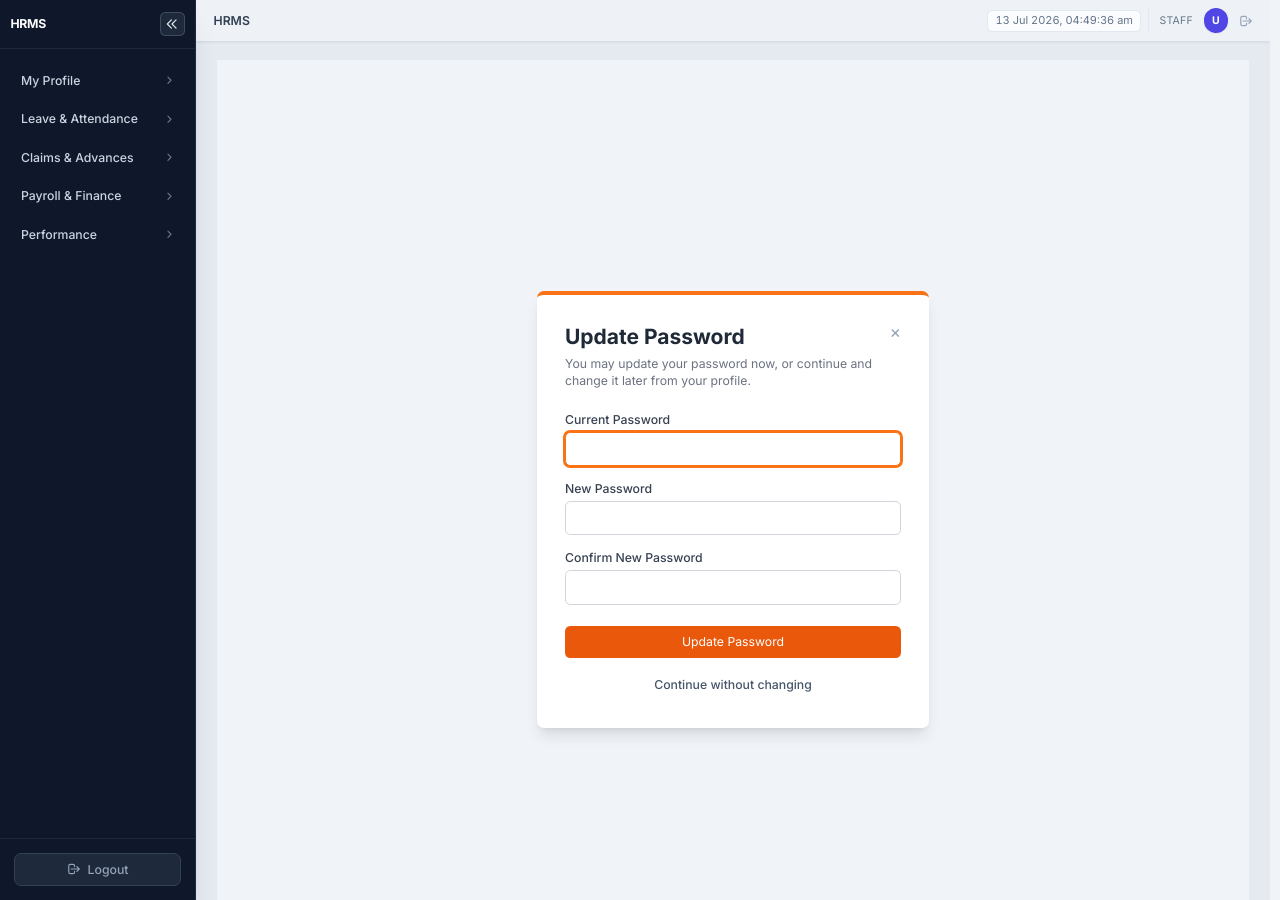
Test case: Auth Flow & forced password change › (c) successful changeMyPassword clears the flag in the store and routes to /
Expected: the heading "Update Password" is shown, [565, 323, 745, 351]
Note: Fill form
In the password field labelled "Current Password": (733, 449) [565, 432, 901, 466], type "oldpass123"
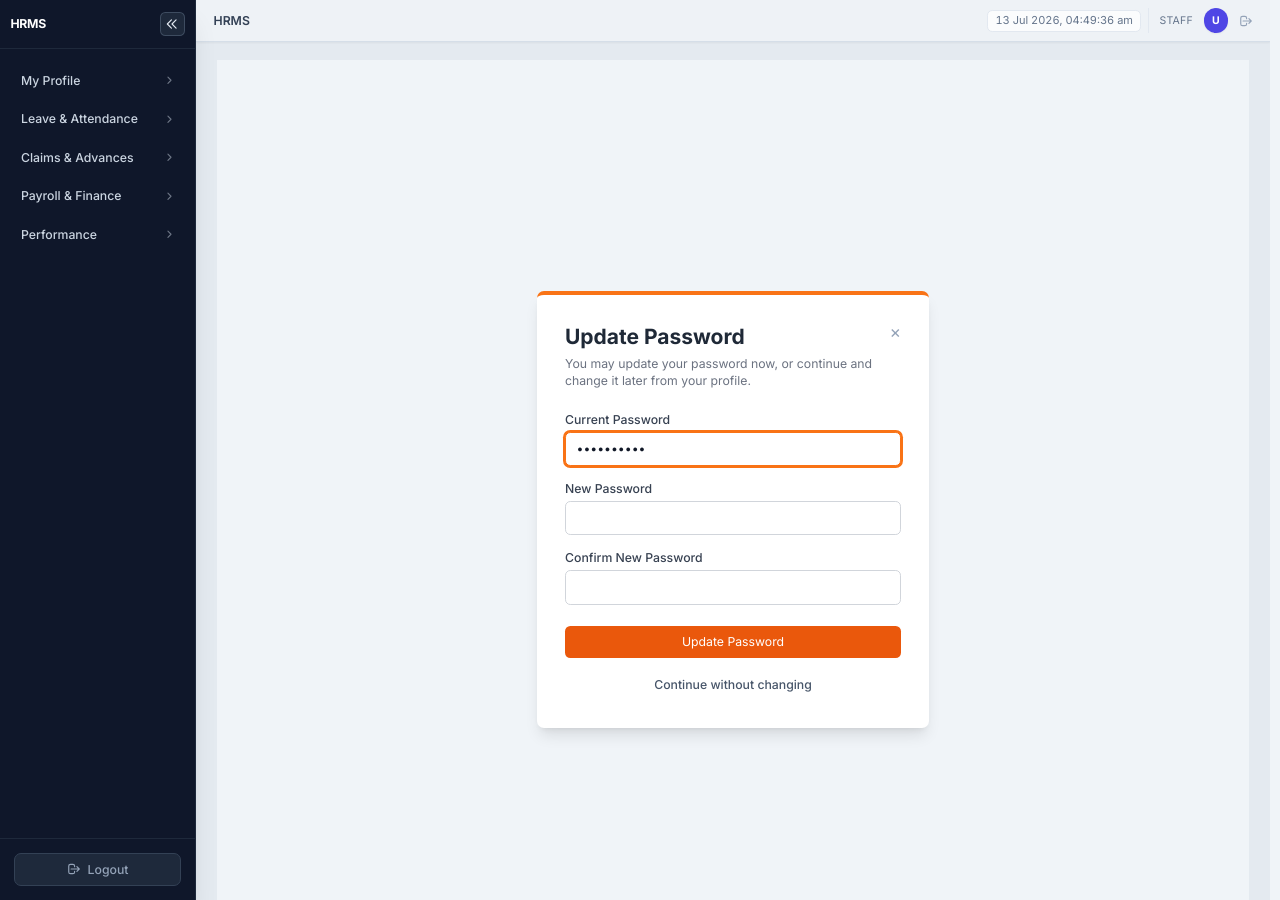
In the password field labelled "New Password": (733, 518) [565, 501, 901, 535], type "NewPass123!"
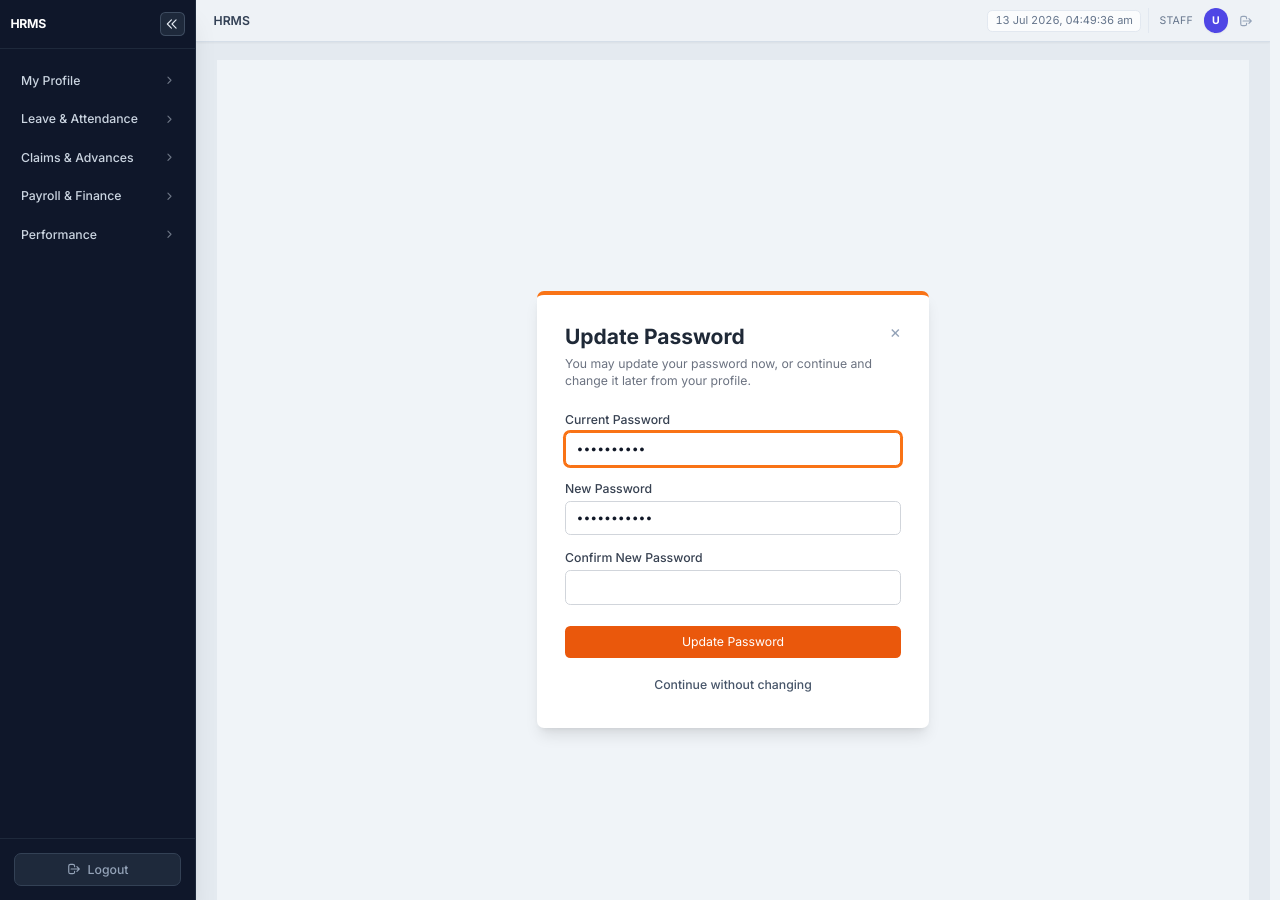
In the password field labelled "Confirm New Password": (733, 588) [565, 570, 901, 605], type "NewPass123!"
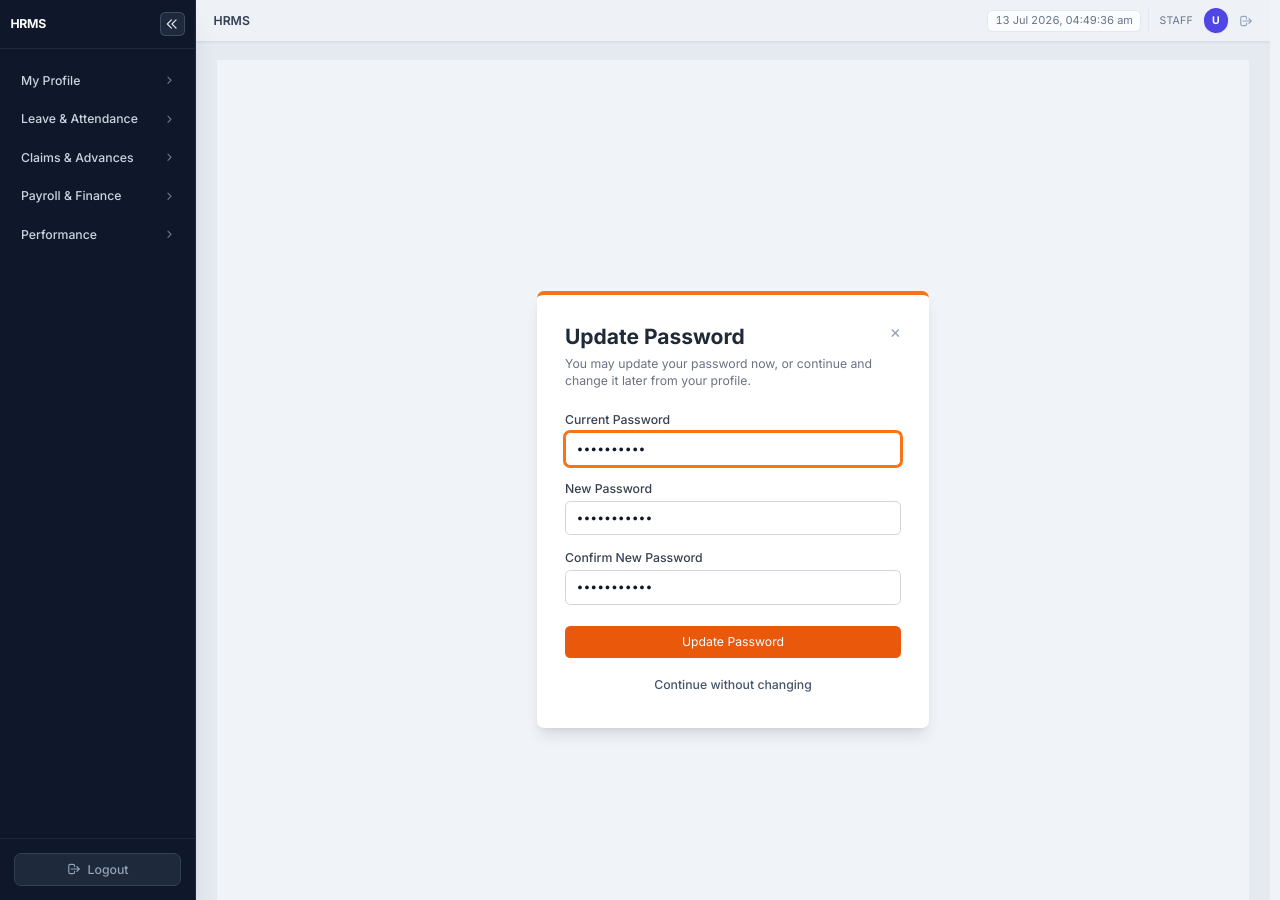
Click the button "Update Password": (733, 642) [565, 626, 901, 658]
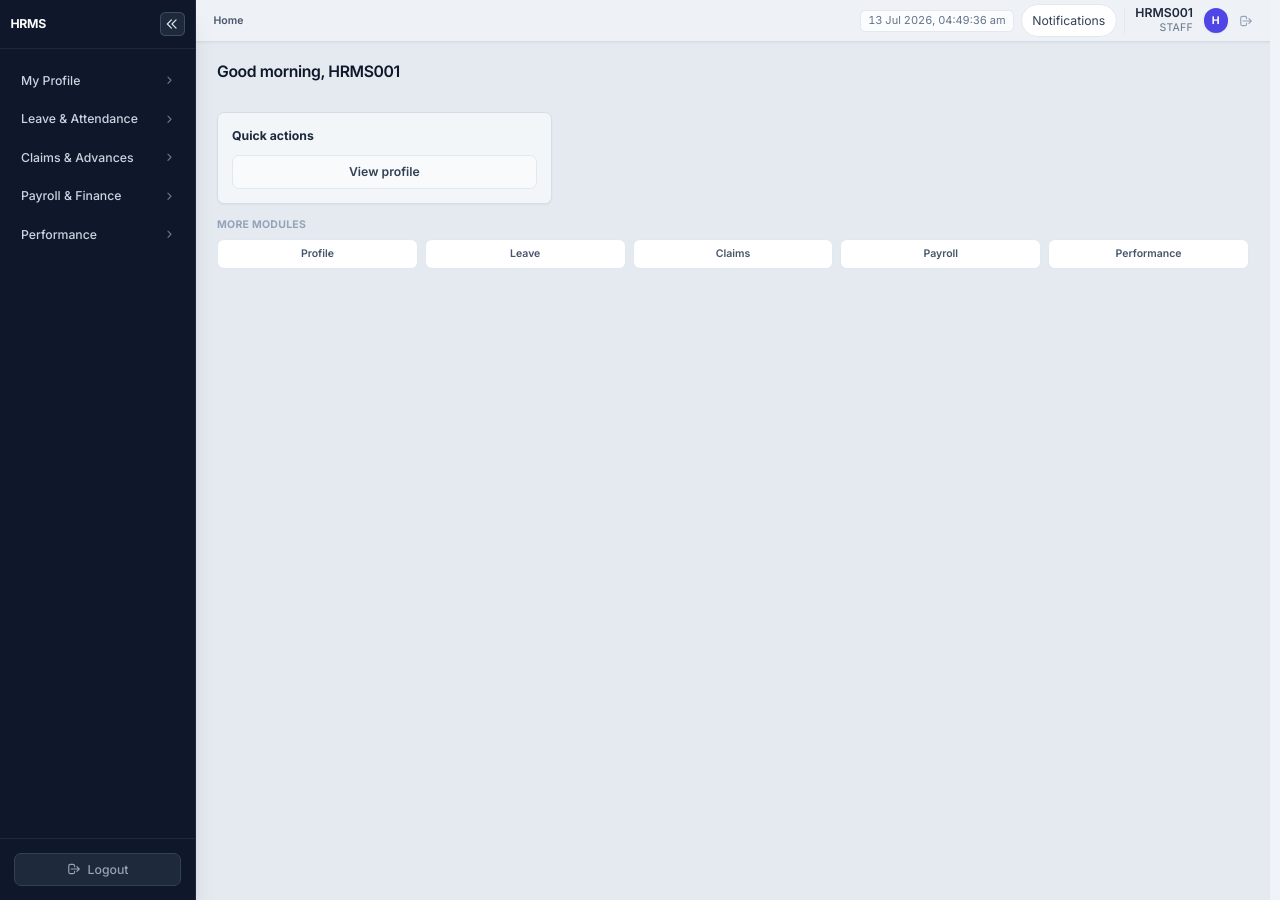
Now the heading "Update Password" is gone
